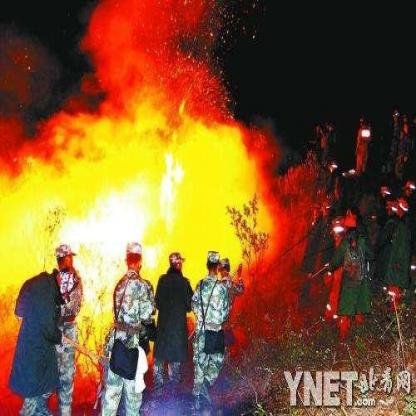fire: (1, 12, 275, 347)
